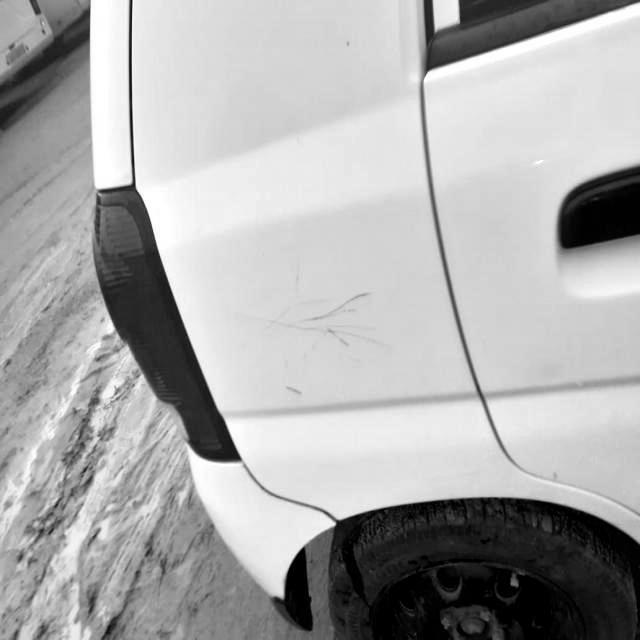quaterpanel-dent: (215, 128, 431, 599)
